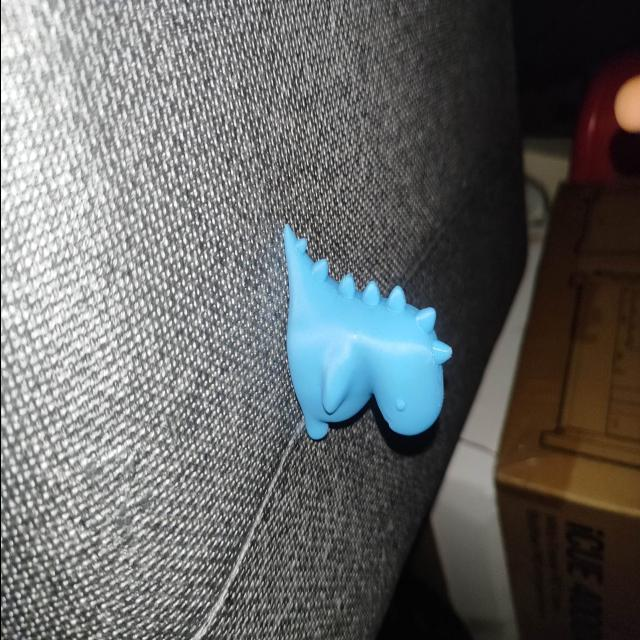DINO: (270, 210, 462, 450)
